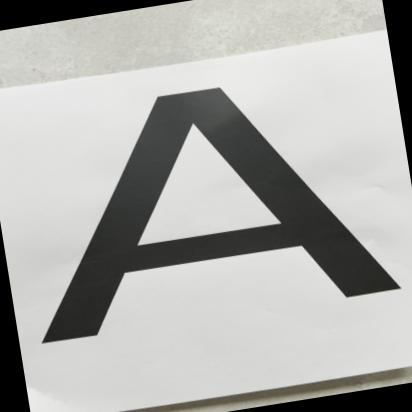seat: (25, 54, 412, 367)
